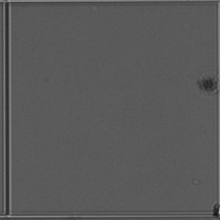Dead Cell: (193, 71, 220, 98)
